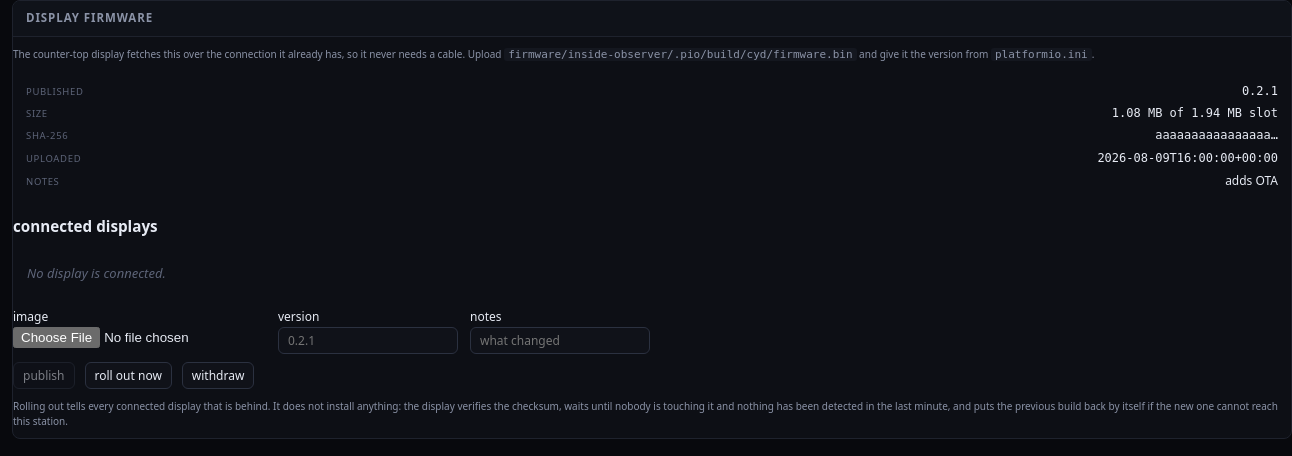
FirmwarePanel › reports a rollout as "offered", never as installed
Click the button "roll out now": coordinates (128, 376) [84,362,172,389]
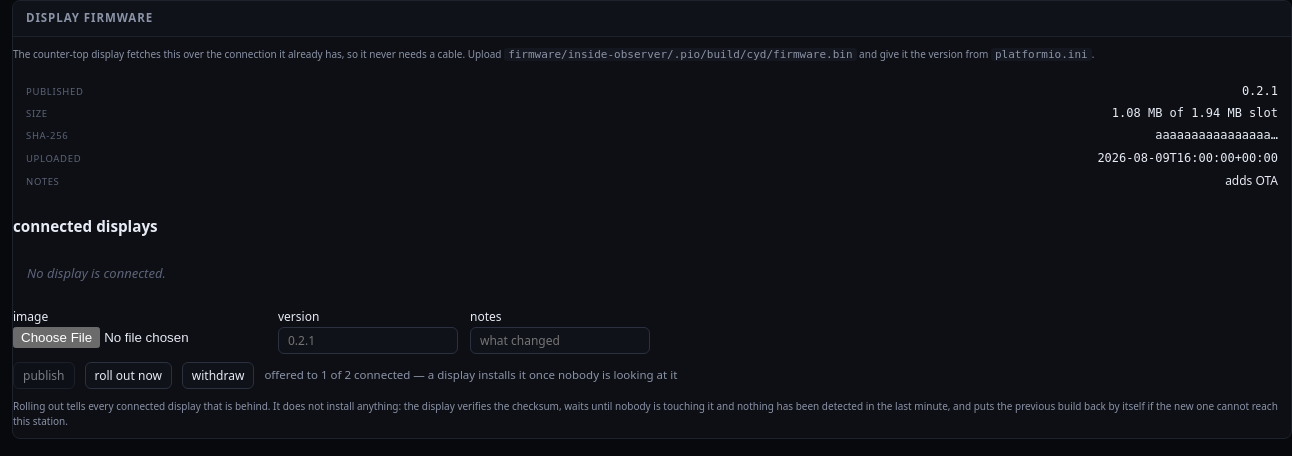
Result: the text "offered to 1 of 2 connected" is shown at [264,367,677,382]
